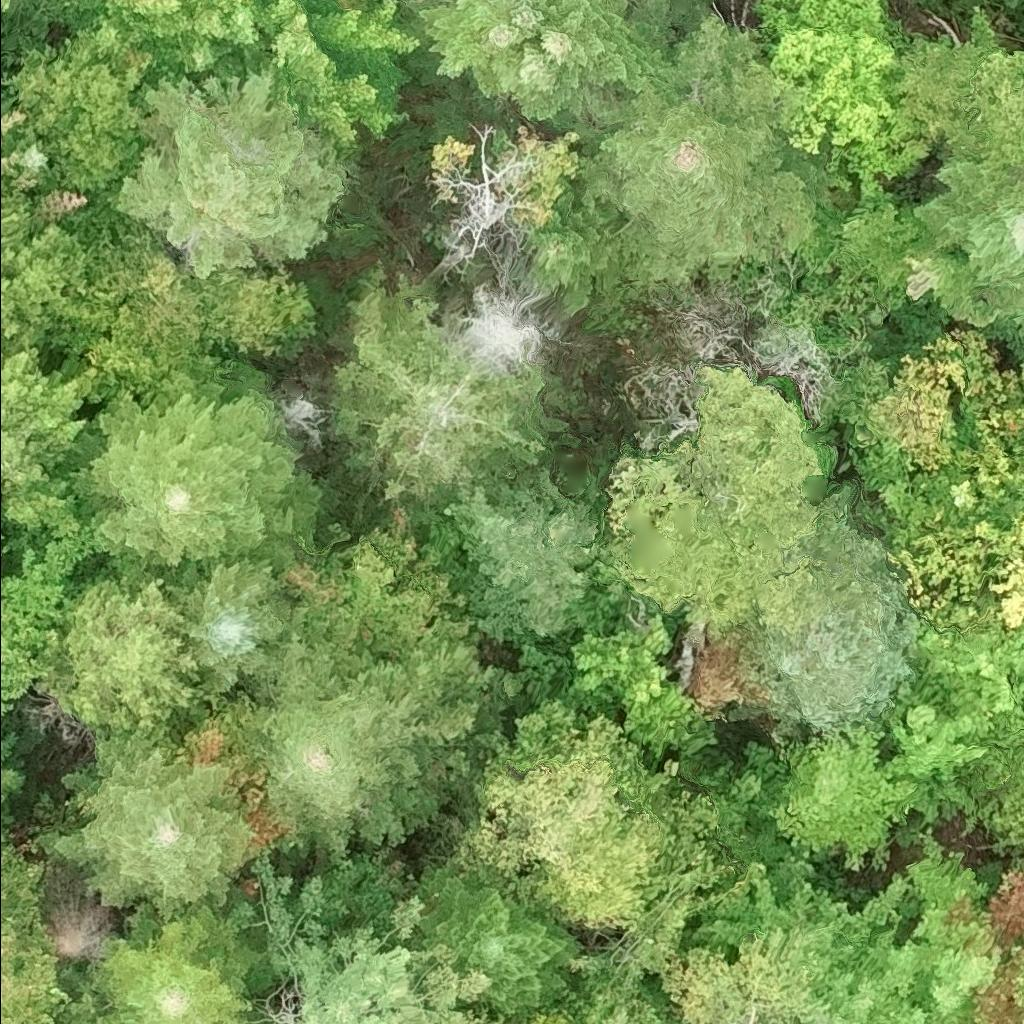crown: (573, 8, 829, 297), (54, 356, 326, 580), (46, 195, 315, 421), (606, 359, 824, 634), (333, 251, 566, 505), (459, 694, 701, 935), (239, 636, 494, 863), (73, 0, 419, 160), (222, 850, 505, 1023), (115, 72, 346, 282), (745, 484, 920, 741), (37, 722, 262, 920), (691, 853, 925, 1023), (395, 455, 604, 641), (753, 0, 944, 202), (1, 11, 167, 215), (36, 556, 217, 738), (879, 615, 1023, 838), (280, 501, 472, 655), (878, 828, 1023, 1023), (411, 861, 585, 1016), (751, 717, 921, 870), (561, 610, 716, 771), (837, 191, 1005, 328), (89, 898, 270, 1023), (0, 346, 102, 556), (0, 521, 102, 728), (163, 553, 297, 703), (430, 234, 571, 375), (911, 156, 1023, 322), (433, 124, 540, 282), (0, 188, 87, 367), (892, 4, 1002, 142), (528, 177, 632, 315), (0, 842, 74, 1023), (948, 454, 1023, 631), (541, 0, 673, 97), (405, 0, 530, 96), (469, 34, 596, 123), (954, 50, 1023, 175), (553, 954, 675, 1023), (45, 868, 124, 964), (986, 738, 1023, 857), (272, 390, 335, 449), (0, 734, 24, 846), (487, 0, 556, 36), (515, 1005, 571, 1023), (0, 0, 13, 32), (1016, 1013, 1023, 1023)
